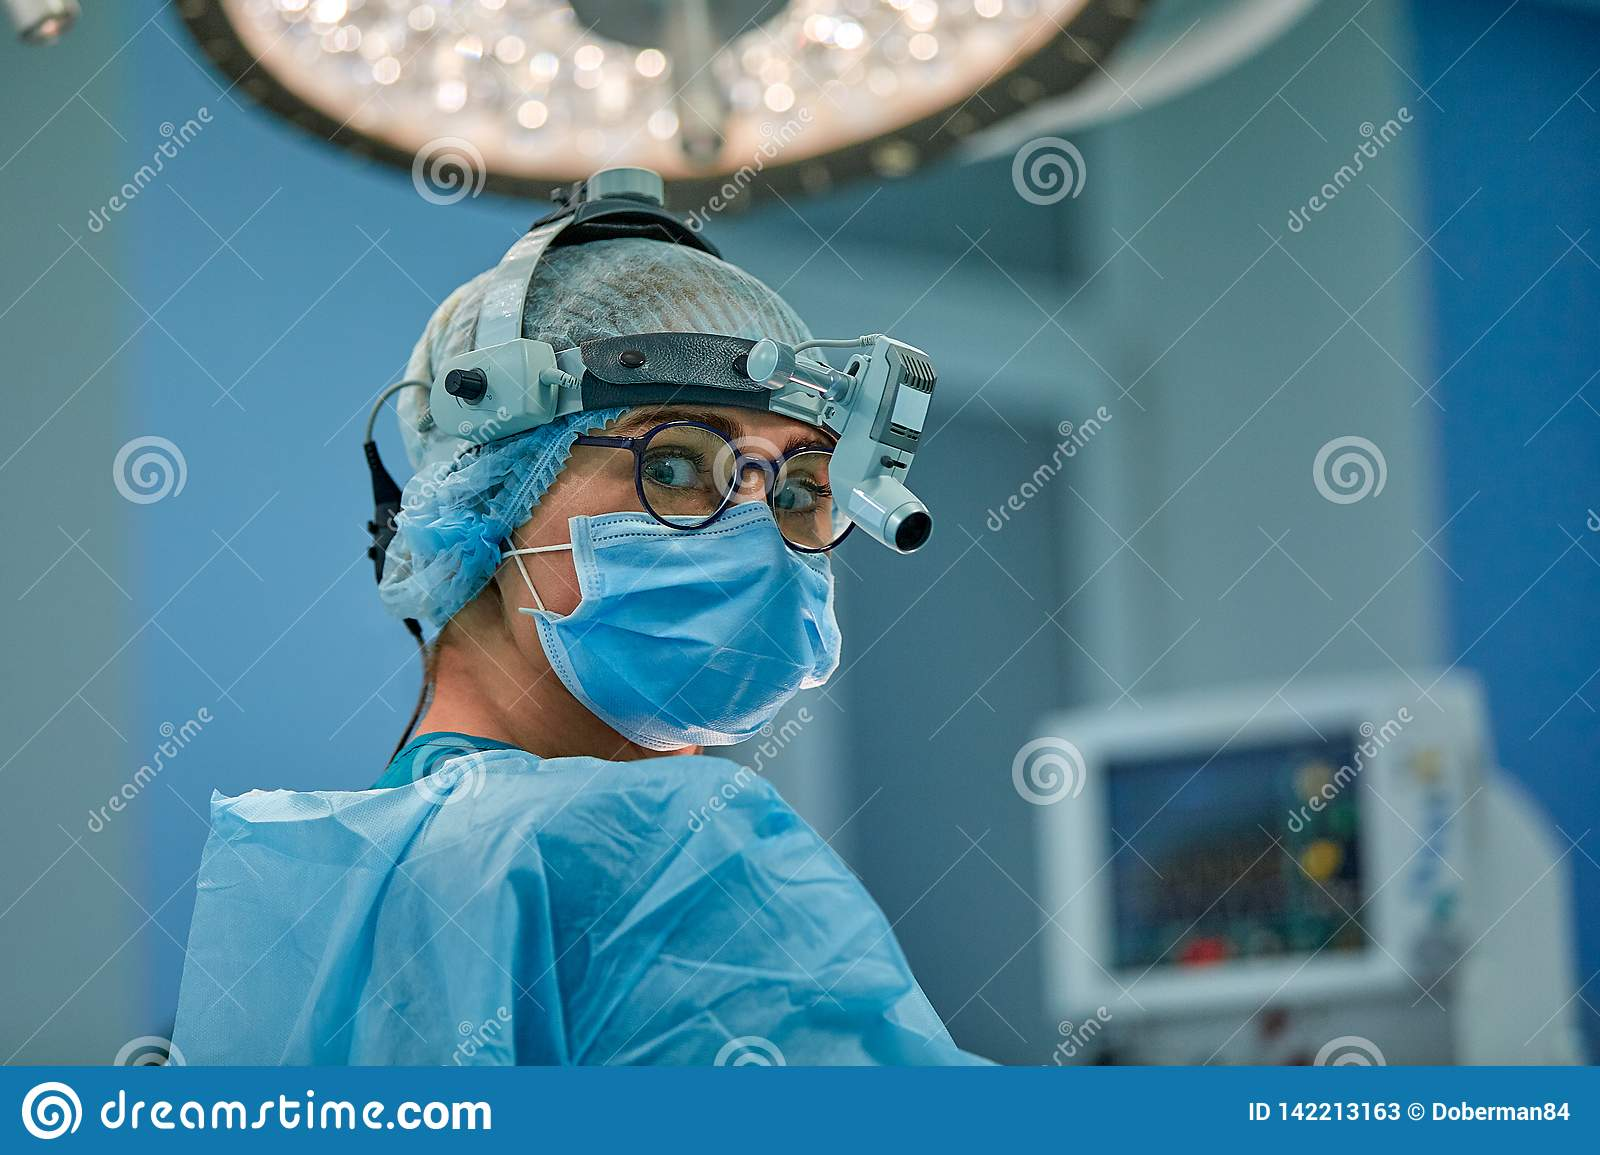mask: (527, 503, 889, 772)
